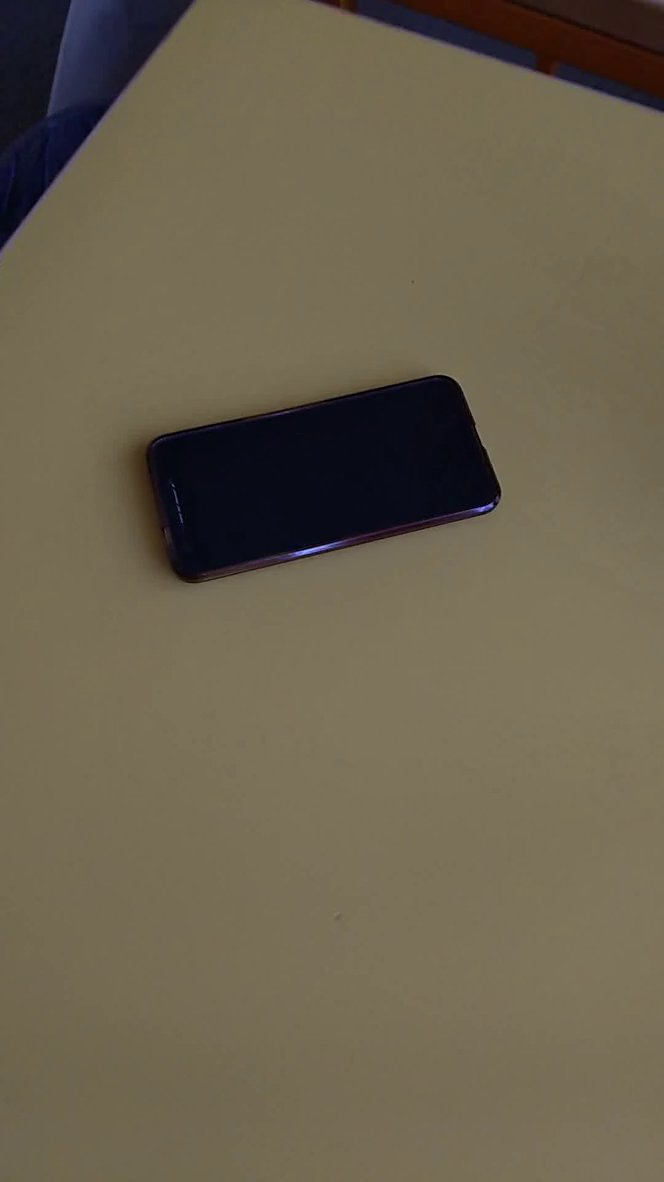phone: (131, 352, 523, 598)
